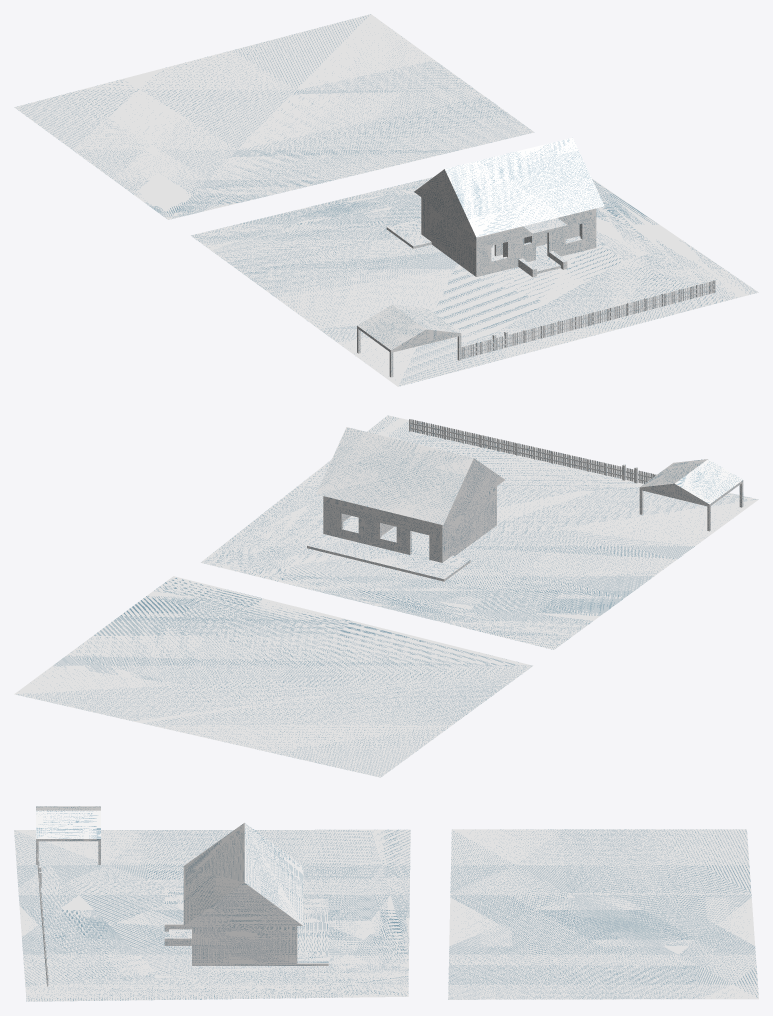
File: Zimne Wody.obj
3 renders of one model, top to bottom at view 1: azimuth 30°, elevation 25°; view 2: azimuth 150°, elevation 25°; view 3: azimuth 270°, elevation 25°, orthographic. The views are drawn at different scales.
Parts seen in each view (by area): view 1: Mesh190 Model, Mesh191 Model, Mesh3 Poddasze1 Domek1 Model, Mesh1 Parter1 Domek1 Model, Mesh12 Garaz1 Model, Mesh4 Fundament1 Domek1 Model; view 2: Mesh190 Model, Mesh191 Model, Mesh3 Poddasze1 Domek1 Model, Mesh1 Parter1 Domek1 Model, Mesh4 Fundament1 Domek1 Model, Mesh12 Garaz1 Model; view 3: Mesh190 Model, Mesh191 Model, Mesh3 Poddasze1 Domek1 Model, Mesh1 Parter1 Domek1 Model, Mesh4 Fundament1 Domek1 Model, Mesh12 Garaz1 Model.
Boxes of the visible parts, x1,y1,x2,y2 form: Mesh190 Model: (14, 14, 534, 219); Mesh191 Model: (190, 177, 758, 386); Mesh3 Poddasze1 Domek1 Model: (414, 137, 604, 242); Mesh1 Parter1 Domek1 Model: (421, 202, 596, 274); Mesh12 Garaz1 Model: (357, 304, 461, 352); Mesh4 Fundament1 Domek1 Model: (386, 218, 596, 277); Mesh190 Model: (14, 576, 533, 777); Mesh191 Model: (200, 415, 758, 649); Mesh3 Poddasze1 Domek1 Model: (316, 427, 504, 530); Mesh1 Parter1 Domek1 Model: (323, 491, 496, 562); Mesh4 Fundament1 Domek1 Model: (307, 516, 496, 581); Mesh12 Garaz1 Model: (639, 459, 743, 506); Mesh190 Model: (448, 829, 758, 999); Mesh191 Model: (14, 829, 410, 1001); Mesh3 Poddasze1 Domek1 Model: (183, 823, 303, 932); Mesh1 Parter1 Domek1 Model: (192, 933, 297, 963); Mesh4 Fundament1 Domek1 Model: (164, 899, 328, 965); Mesh12 Garaz1 Model: (36, 806, 100, 841).
Size of the model in its own units: 31.4 by 7.25 by 57.32.
